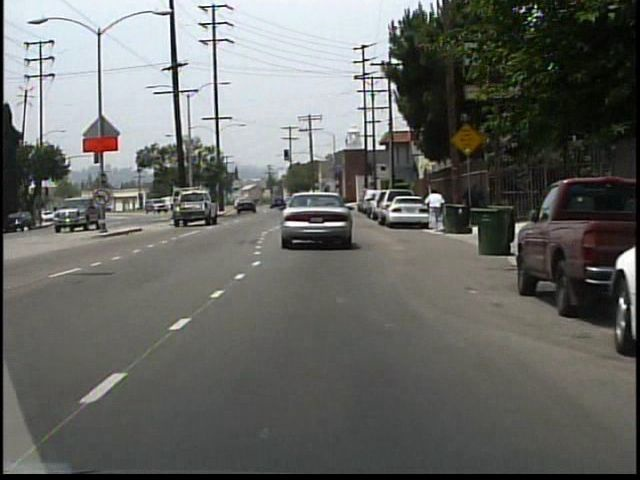person: (425, 187, 446, 234)
